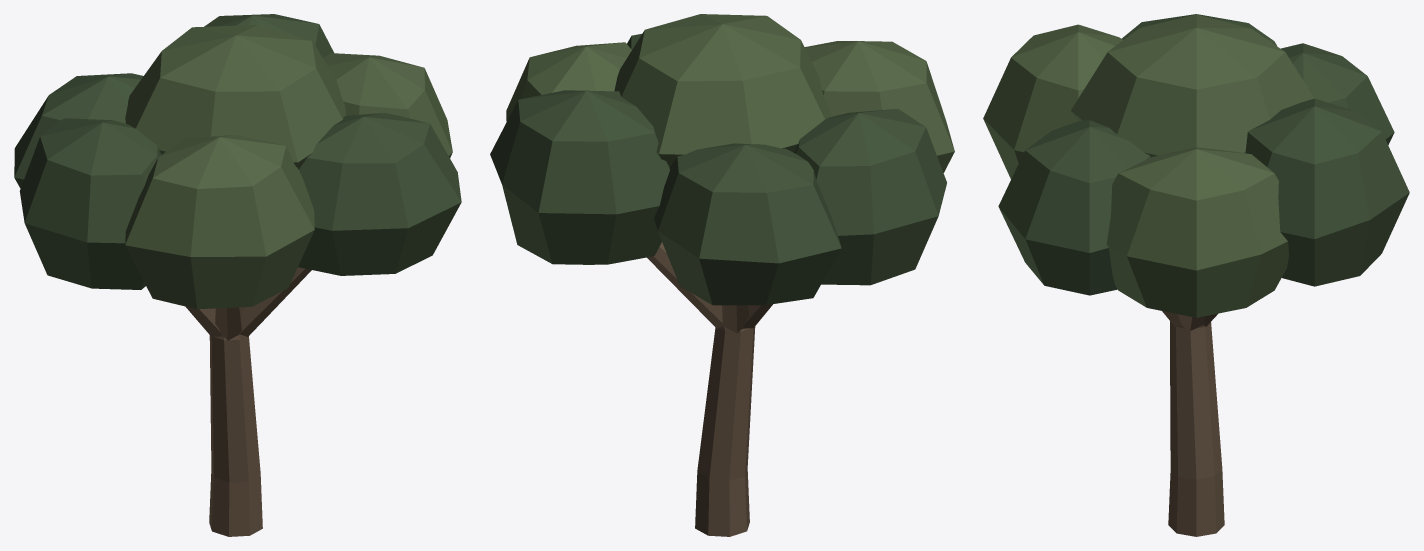
File: oak.fbx
3 views of the same model, side by side, from view 1: azimuth 30°, elevation 25°; view 2: azimuth 150°, elevation 25°; view 3: azimuth 270°, elevation 25° (orthographic). The views are drawn at different scales.
Visible parts, largest first — view 1: Canopy, Trunk; view 2: Canopy, Trunk; view 3: Canopy, Trunk.
Boxes of the visible parts, x1,y1,x2,y2 form: Canopy: (14,14,461,309); Trunk: (186,267,311,536); Canopy: (490,14,954,305); Trunk: (647,242,772,536); Canopy: (983,14,1409,317); Trunk: (1162,311,1224,536).
Size of the model in its own units: 6.5 by 7.2 by 5.6.
